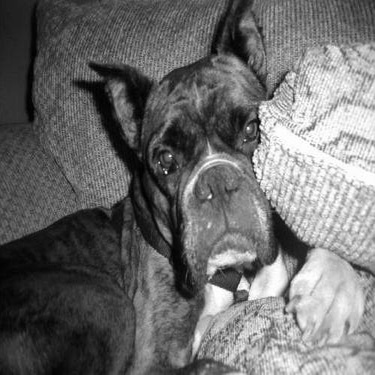dog: (4, 1, 367, 374)
